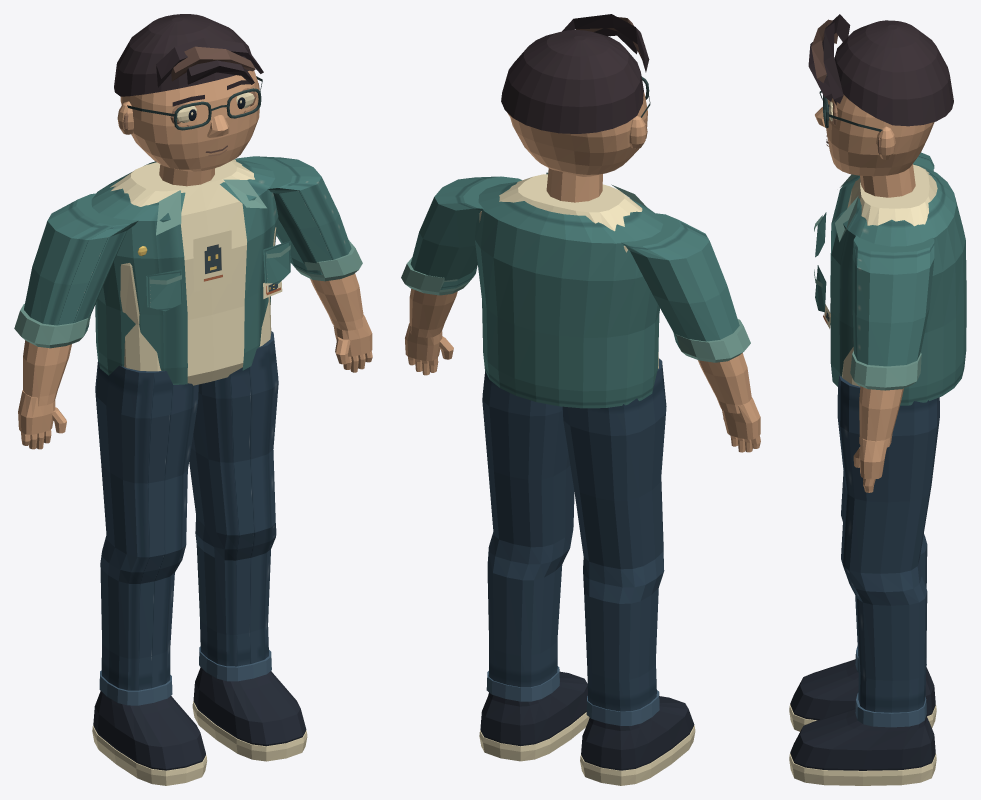
The model's file is Eddie_Editable.obj.
3 views of the same model, side by side, from view 1: azimuth 30°, elevation 25°; view 2: azimuth 150°, elevation 25°; view 3: azimuth 270°, elevation 25° (orthographic).
Visible parts, largest first — view 1: Jeans_leg_-1, Jeans_leg_1, Open_overshirt, Tee_body, Sleeve_-1, Head_contour, Sleeve_1, Sneaker_-1, Sneaker_1, Hair_cap, Forearm_-1, Original_cartridge_emblem (+17 smaller); view 2: Open_overshirt, Jeans_leg_-1, Jeans_leg_1, Hair_cap, Sleeve_-1, Sleeve_1, Sneaker_-1, Sneaker_1, Head_contour, Tee_body, Forearm_-1, Rubber_sole_-1 (+10 smaller); view 3: Jeans_leg_1, Open_overshirt, Hair_cap, Sleeve_1, Sneaker_1, Head_contour, Sneaker_-1, Tee_body, Rubber_sole_1, Forearm_1, Rolled_cuff_1, Swept_lock_0 (+10 smaller).
Part boxes in pixels (<box>): Jeans_leg_-1: <box>95,361,198,690</box>; Jeans_leg_1: <box>189,331,278,666</box>; Open_overshirt: <box>91,159,278,384</box>; Tee_body: <box>110,159,276,385</box>; Sleeve_-1: <box>24,193,138,332</box>; Head_contour: <box>120,70,259,171</box>; Sleeve_1: <box>235,156,351,274</box>; Sneaker_-1: <box>93,691,205,770</box>; Sneaker_1: <box>193,667,306,746</box>; Hair_cap: <box>114,14,251,96</box>; Forearm_-1: <box>23,340,71,406</box>; Original_cartridge_emblem: <box>193,230,232,292</box>; Open_overshirt: <box>475,182,662,408</box>; Jeans_leg_-1: <box>562,358,666,711</box>; Jeans_leg_1: <box>482,371,574,687</box>; Hair_cap: <box>501,30,643,133</box>; Sleeve_-1: <box>621,213,739,347</box>; Sleeve_1: <box>410,176,521,289</box>; Sneaker_-1: <box>581,696,694,770</box>; Sneaker_1: <box>480,671,587,746</box>; Head_contour: <box>509,92,647,176</box>; Tee_body: <box>479,174,658,368</box>; Forearm_-1: <box>698,353,751,413</box>; Rubber_sole_-1: <box>580,725,695,785</box>; Jeans_leg_1: <box>837,375,939,712</box>; Open_overshirt: <box>830,164,966,405</box>; Hair_cap: <box>834,20,953,126</box>; Sleeve_1: <box>852,235,934,366</box>; Sneaker_1: <box>790,708,935,770</box>; Head_contour: <box>826,94,934,176</box>; Sneaker_-1: <box>790,659,935,720</box>; Tee_body: <box>841,164,937,386</box>; Rubber_sole_1: <box>789,753,936,785</box>; Forearm_1: <box>859,386,903,447</box>; Rolled_cuff_1: <box>850,351,921,390</box>; Swept_lock_0: <box>823,14,850,103</box>.
Bounding box in the file's own units: 0.858 × 1.69 × 0.378.
1 material, 1 textured.
